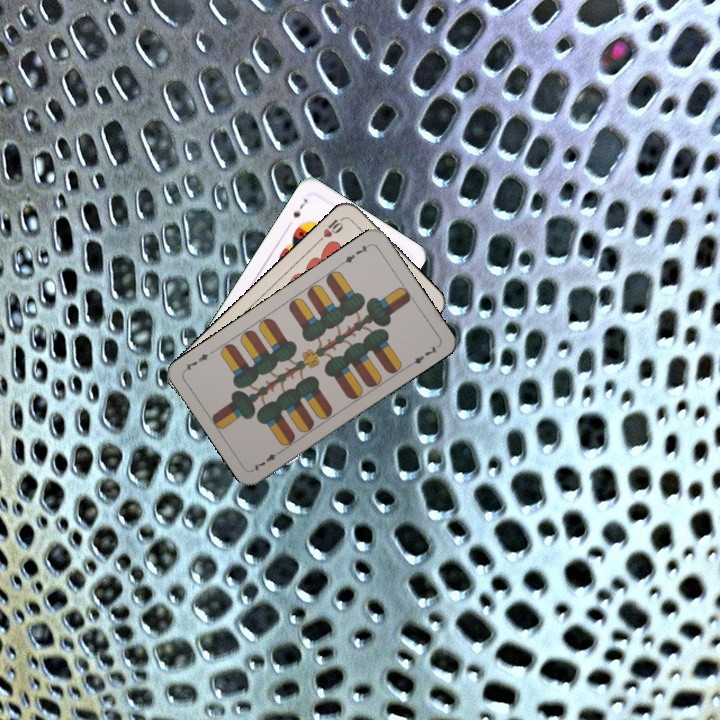E7: (337, 240, 373, 267), (249, 446, 285, 473)
H10: (314, 213, 348, 245)
S7: (289, 194, 310, 220)
